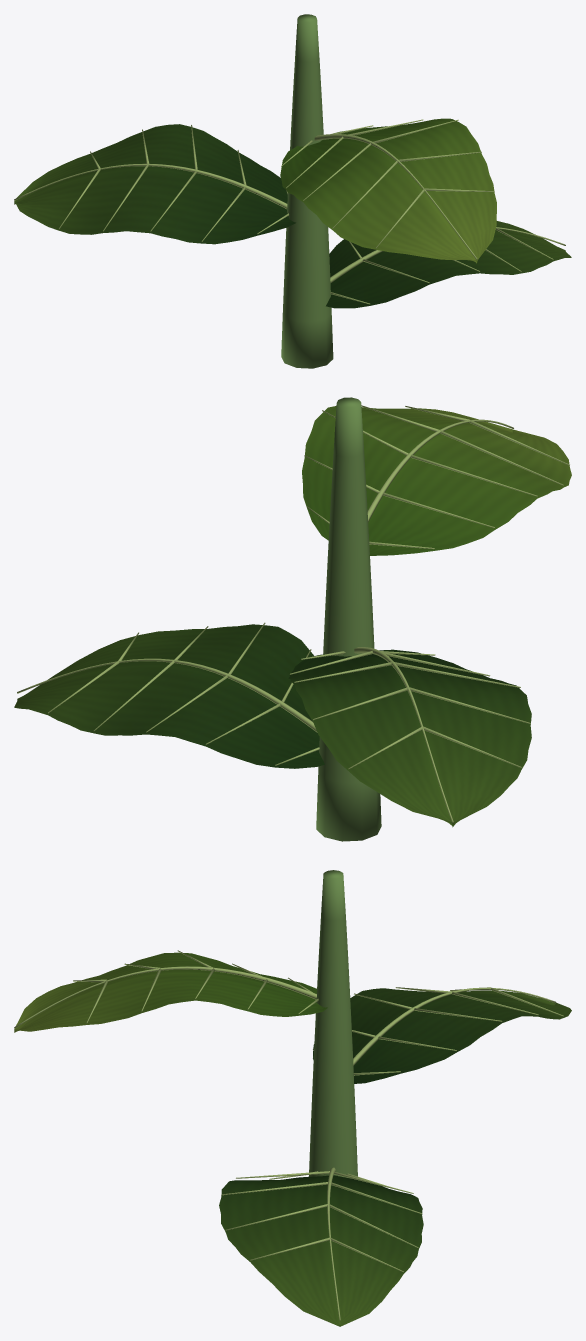
The model's file is poppy-02.glb.
3 views of the same model, one above another, from view 1: azimuth 30°, elevation 25°; view 2: azimuth 150°, elevation 25°; view 3: azimuth 270°, elevation 25° (orthographic). The views are drawn at different scales.
Visible parts, largest first — view 1: poppy_stage_02_leaf_veins.002, poppy_stage_02_young_leaf.002, poppy_stage_02_stem_fibres.002, poppy_stage_02_raised_midveins.002; view 2: poppy_stage_02_leaf_veins.002, poppy_stage_02_young_leaf.002, poppy_stage_02_stem_fibres.002, poppy_stage_02_raised_midveins.002; view 3: poppy_stage_02_leaf_veins.002, poppy_stage_02_young_leaf.002, poppy_stage_02_stem_fibres.002, poppy_stage_02_raised_midveins.002.
Boxes of the visible parts, <box> form: poppy_stage_02_leaf_veins.002: <box>14,124,571,308</box>; poppy_stage_02_young_leaf.002: <box>280,118,496,263</box>; poppy_stage_02_stem_fibres.002: <box>281,14,333,368</box>; poppy_stage_02_raised_midveins.002: <box>14,119,565,304</box>; poppy_stage_02_leaf_veins.002: <box>14,624,531,827</box>; poppy_stage_02_young_leaf.002: <box>302,406,571,555</box>; poppy_stage_02_stem_fibres.002: <box>316,397,381,841</box>; poppy_stage_02_raised_midveins.002: <box>17,405,569,822</box>; poppy_stage_02_leaf_veins.002: <box>219,988,571,1326</box>; poppy_stage_02_young_leaf.002: <box>14,952,327,1032</box>; poppy_stage_02_stem_fibres.002: <box>309,870,357,1178</box>; poppy_stage_02_raised_midveins.002: <box>14,950,563,1320</box>.
Size of the model in its own units: 0.0813 by 0.0571 by 0.0802.
4 materials, 2 textured.
